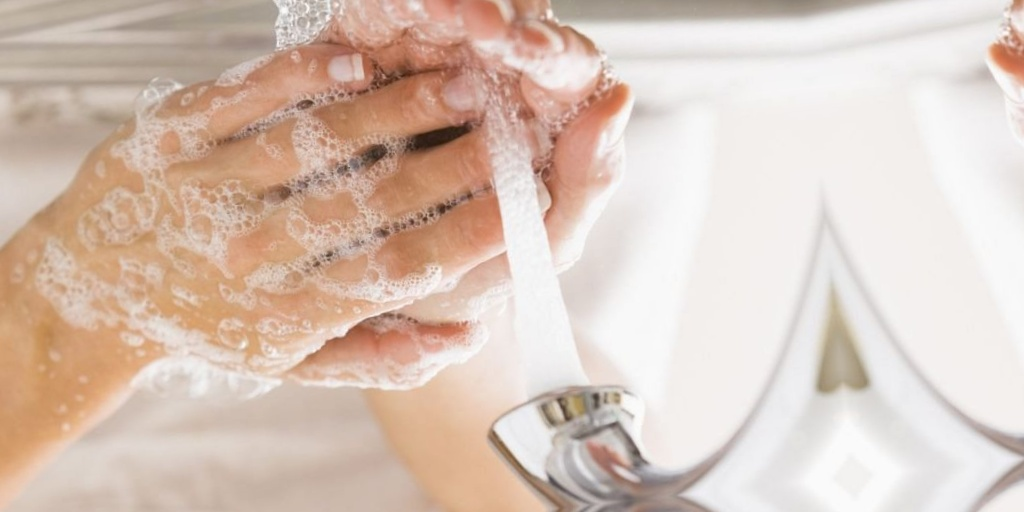washing hand: (0, 0, 700, 511)
